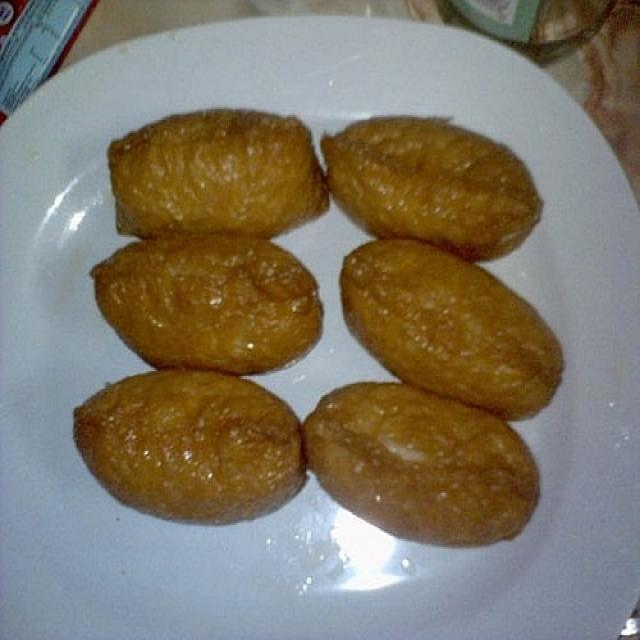寿司卷物: (54, 66, 602, 584)
